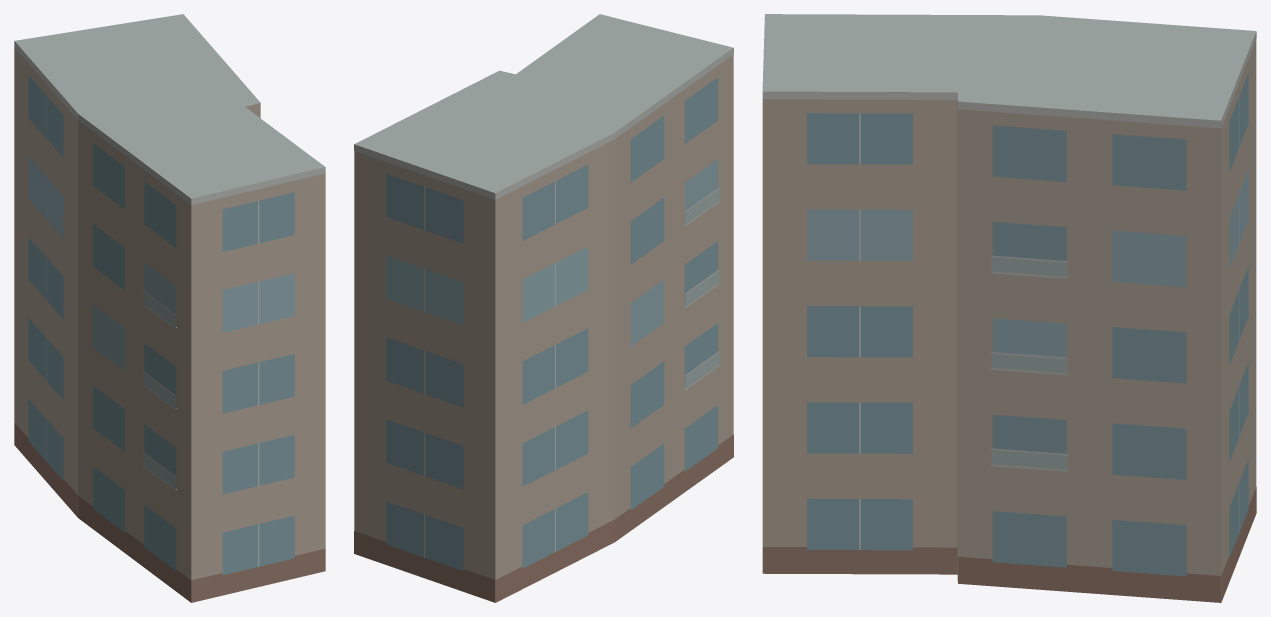
File: survey-upis-32690346.glb
The picture shows the model from 3 angles, left to right: view 1: azimuth 30°, elevation 25°; view 2: azimuth 150°, elevation 25°; view 3: azimuth 270°, elevation 25°; orthographic projection. The views are drawn at different scales.
Visible parts, largest first — view 1: survey-upis-32690346.tmp; view 2: survey-upis-32690346.tmp; view 3: survey-upis-32690346.tmp.
Part boxes in pixels (box(x1,y1,x2,y2)): survey-upis-32690346.tmp: box(14, 14, 325, 602); survey-upis-32690346.tmp: box(354, 14, 733, 602); survey-upis-32690346.tmp: box(762, 14, 1256, 602).
Bounding box in the file's own units: 7.3 × 15.3 × 14.22.
